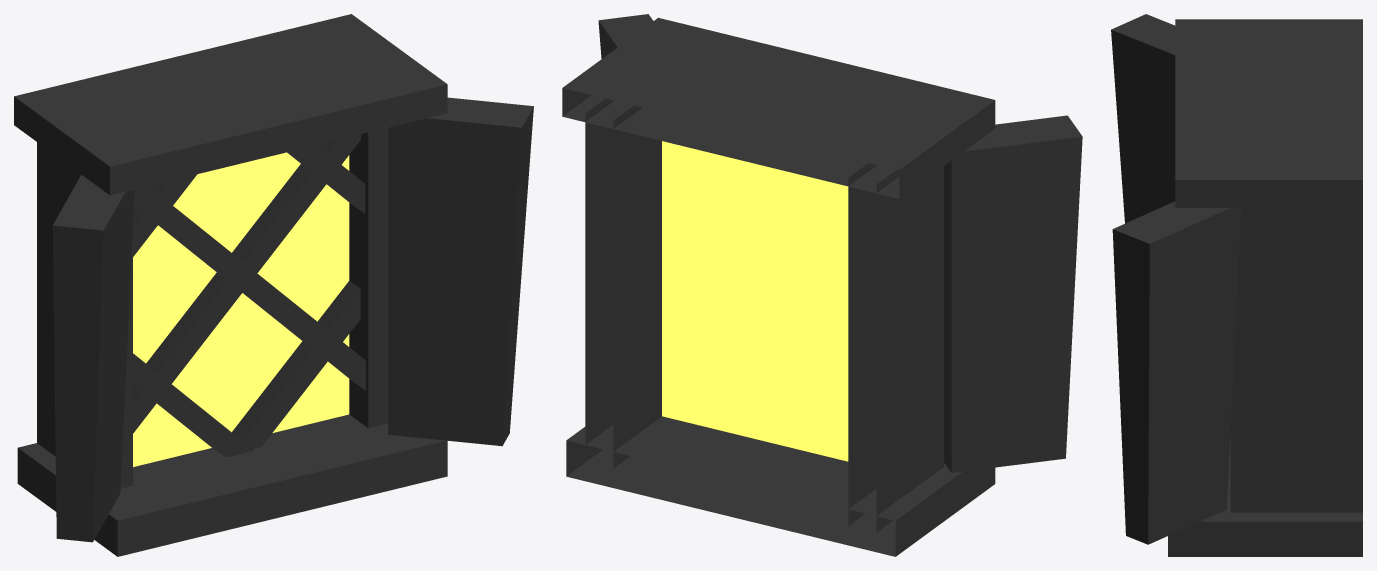
File: SM_BLD_window_v08_01.FBX
3 renders of one model, left to right at view 1: azimuth 30°, elevation 25°; view 2: azimuth 150°, elevation 25°; view 3: azimuth 270°, elevation 25°, orthographic. The views are drawn at different scales.
Parts seen in each view (by area): view 1: SM_BLD_window_v08_01; view 2: SM_BLD_window_v08_01; view 3: SM_BLD_window_v08_01.
Boxes of the visible parts, x1=… form: SM_BLD_window_v08_01: x1=14, y1=14, x2=533, y2=556; SM_BLD_window_v08_01: x1=562, y1=14, x2=1082, y2=556; SM_BLD_window_v08_01: x1=1111, y1=14, x2=1362, y2=556.
Size of the model in its own units: 113 by 52.22 by 86.65.
